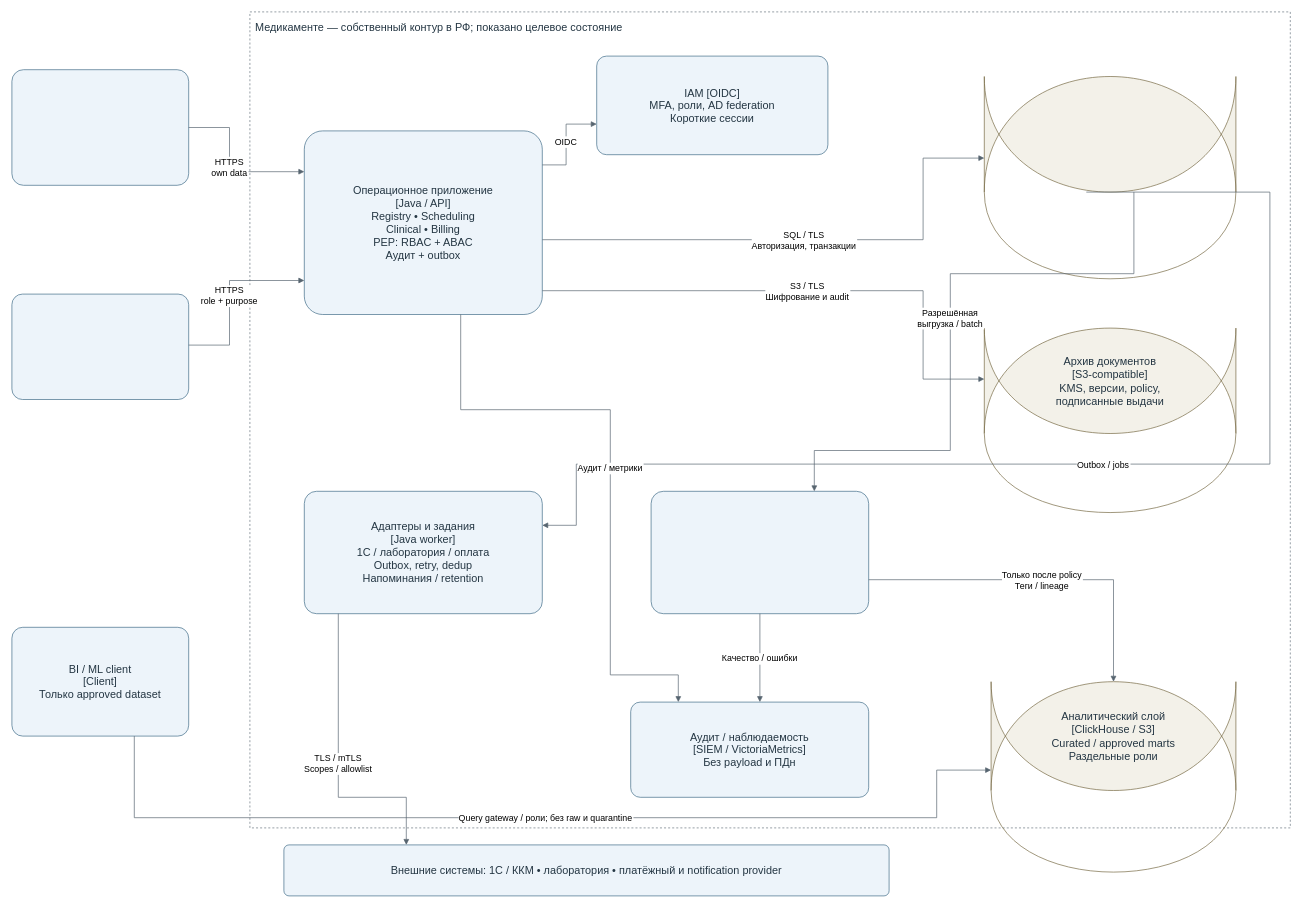
The diagram is 1302 pixels wide and 908 high, and some of its shapes have lost their labels. The shapes that lost their labels are listed below. From the top down, each one's centre as x and y in pixels, then its label:
the point at 100,127: Веб / мобильный ЛК [Browser / App] Собственная запись, карта и договор
the point at 1110,134: PostgreSQL [SQL / OLTP] RLS, доменные схемы, основания / retention
the point at 100,346: Рабочее место [Browser] Ресепшен / врач
the point at 759,552: Шлюз классификации [NiFi + OCR / NER] Карантин и policy gate Подробно: Task6
